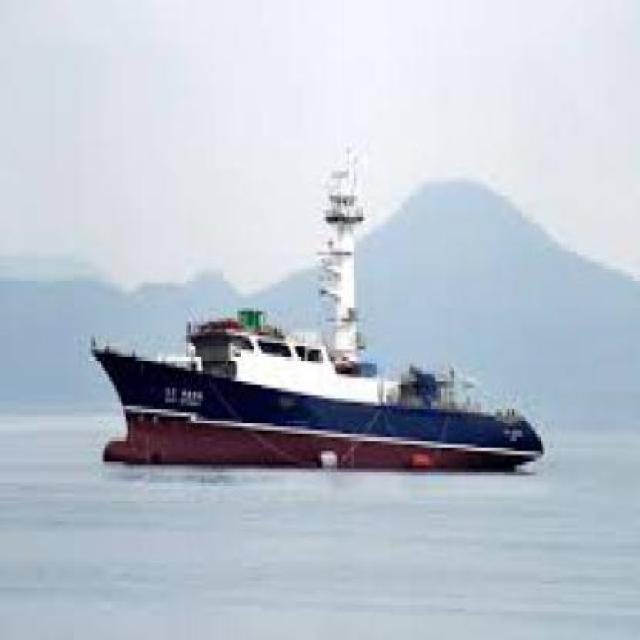fish-b: (83, 144, 560, 498)
